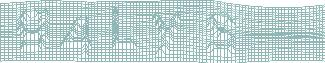4: (59, 15, 92, 59)
L: (107, 5, 139, 51)
S: (204, 11, 237, 58)
g: (15, 8, 50, 52)
y: (150, 12, 181, 58)
